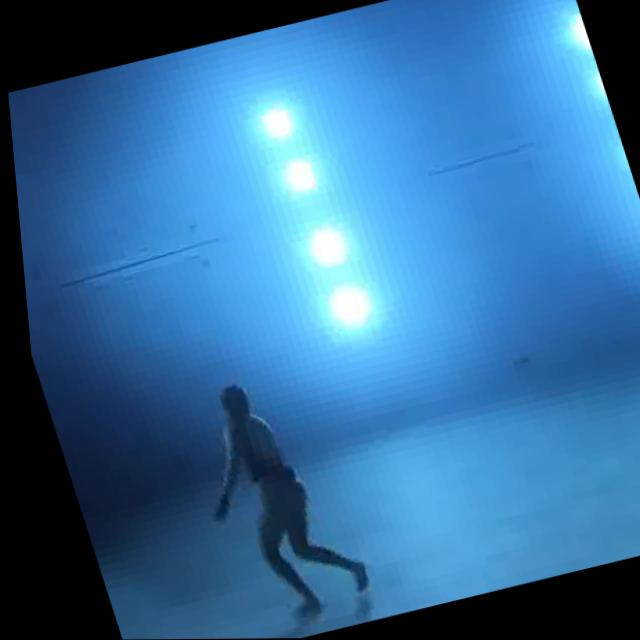human: (138, 340, 378, 639)
